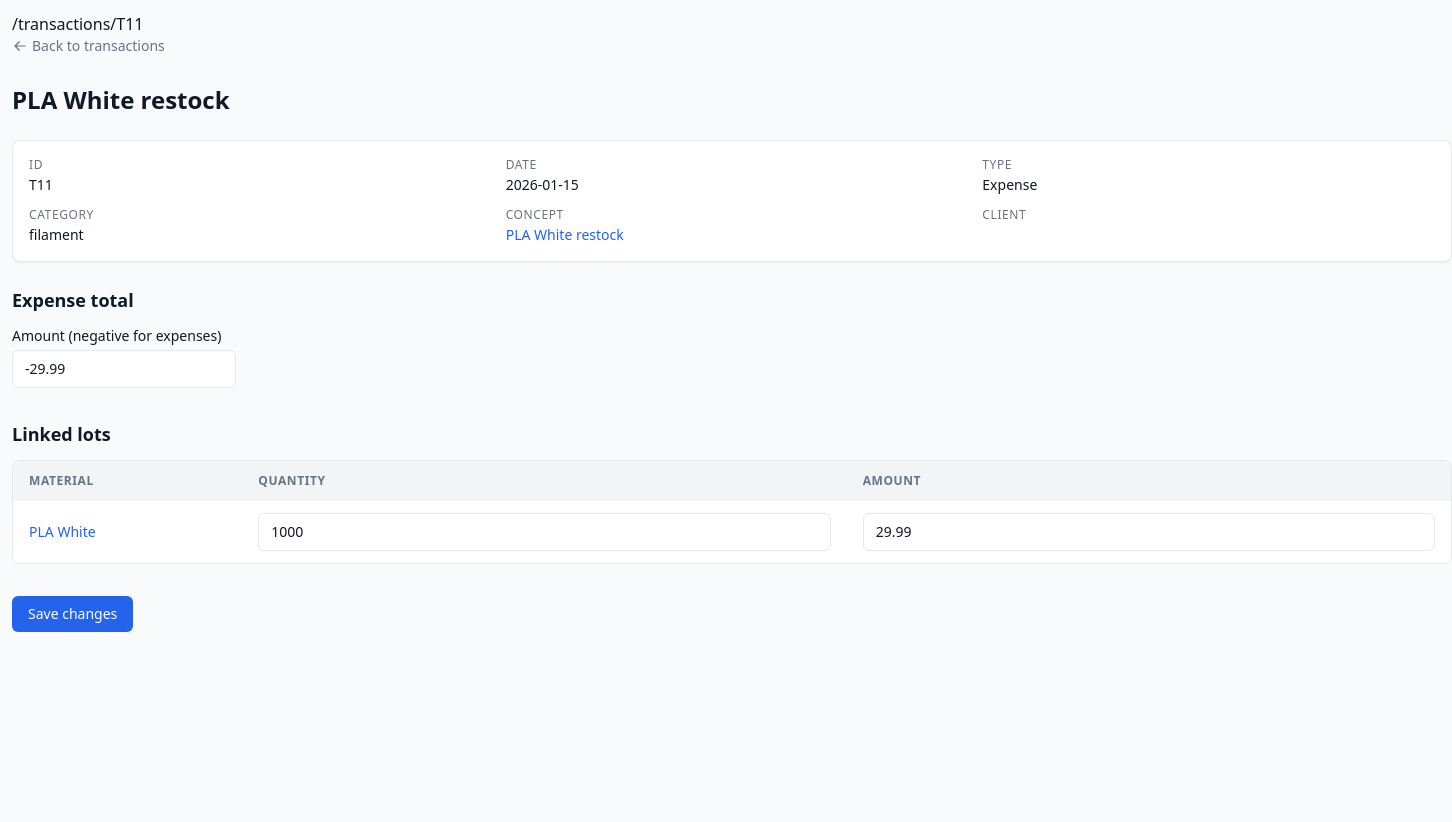
ExpenseTransactionDetailPage › saving › leaves the expense total unchanged when a lot is rejected in the same save
Replace the text in the number field with test id "expense-detail-amount-input" with "-40": (124, 369) [12, 350, 236, 388]
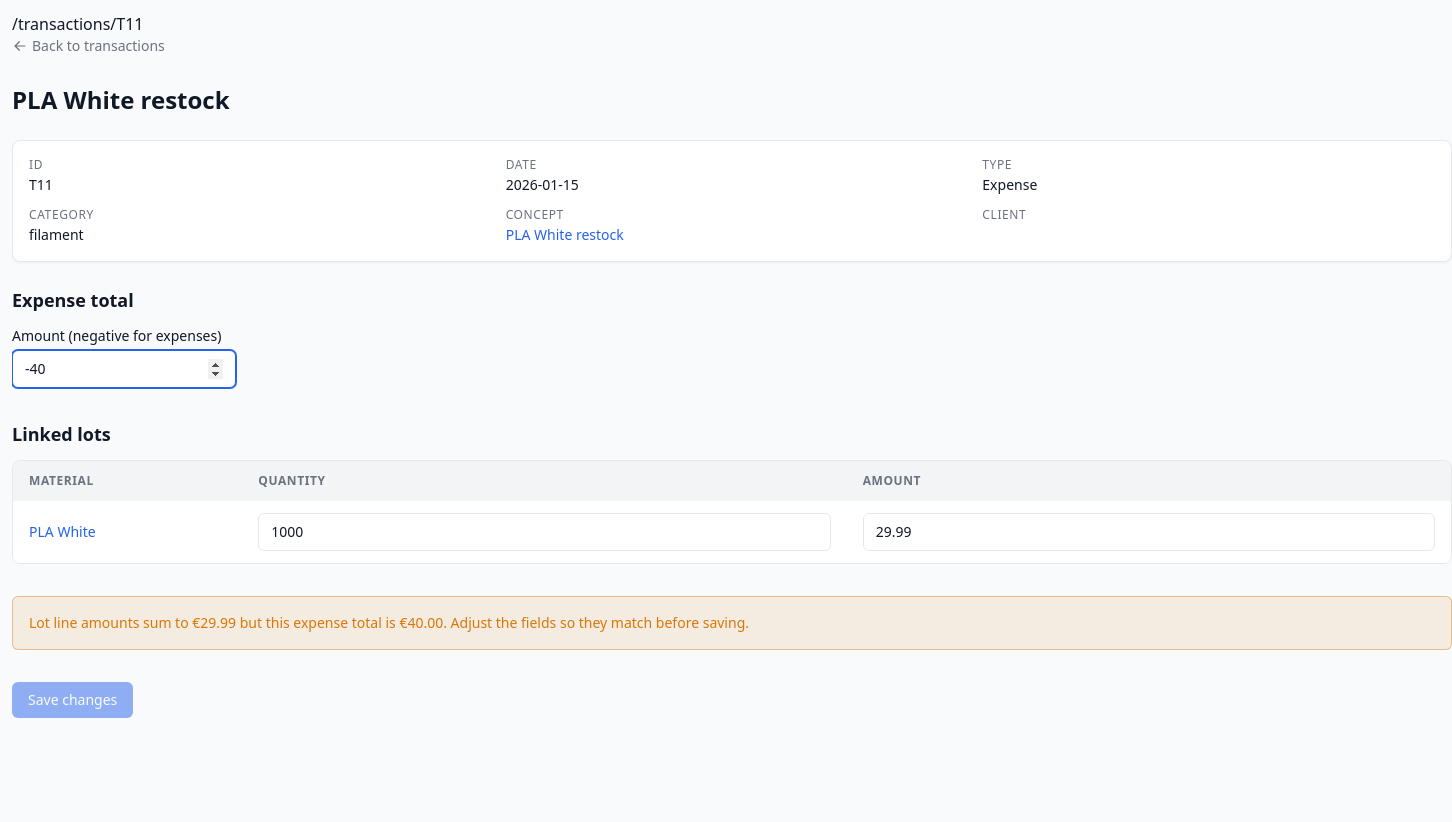
Clear the number field with test id "expense-detail-lot-amount-input-L1": (1149, 532) [863, 513, 1435, 551]
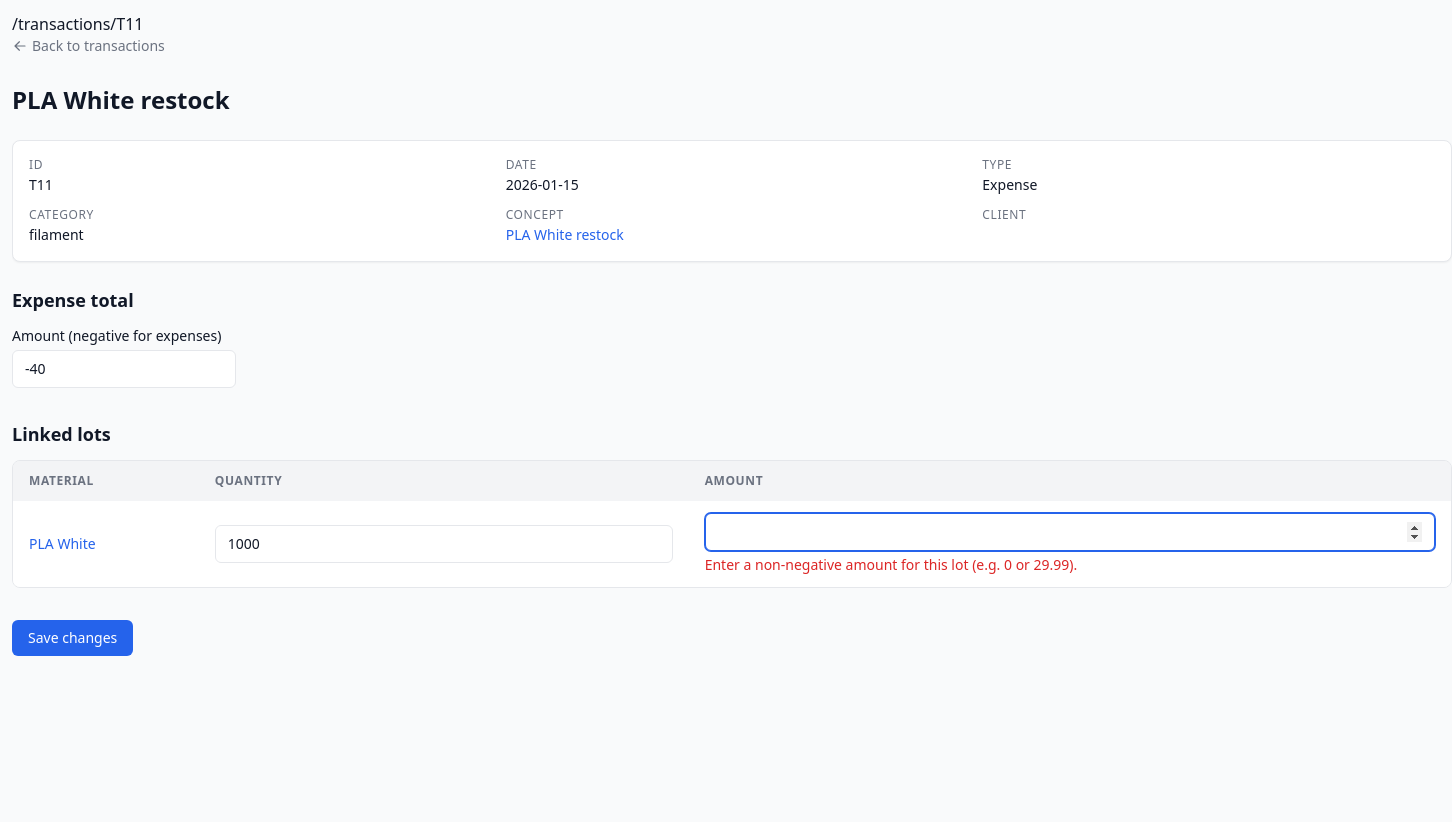
In the number field with test id "expense-detail-lot-amount-input-L1": (1070, 532) [705, 513, 1435, 551], type "40"
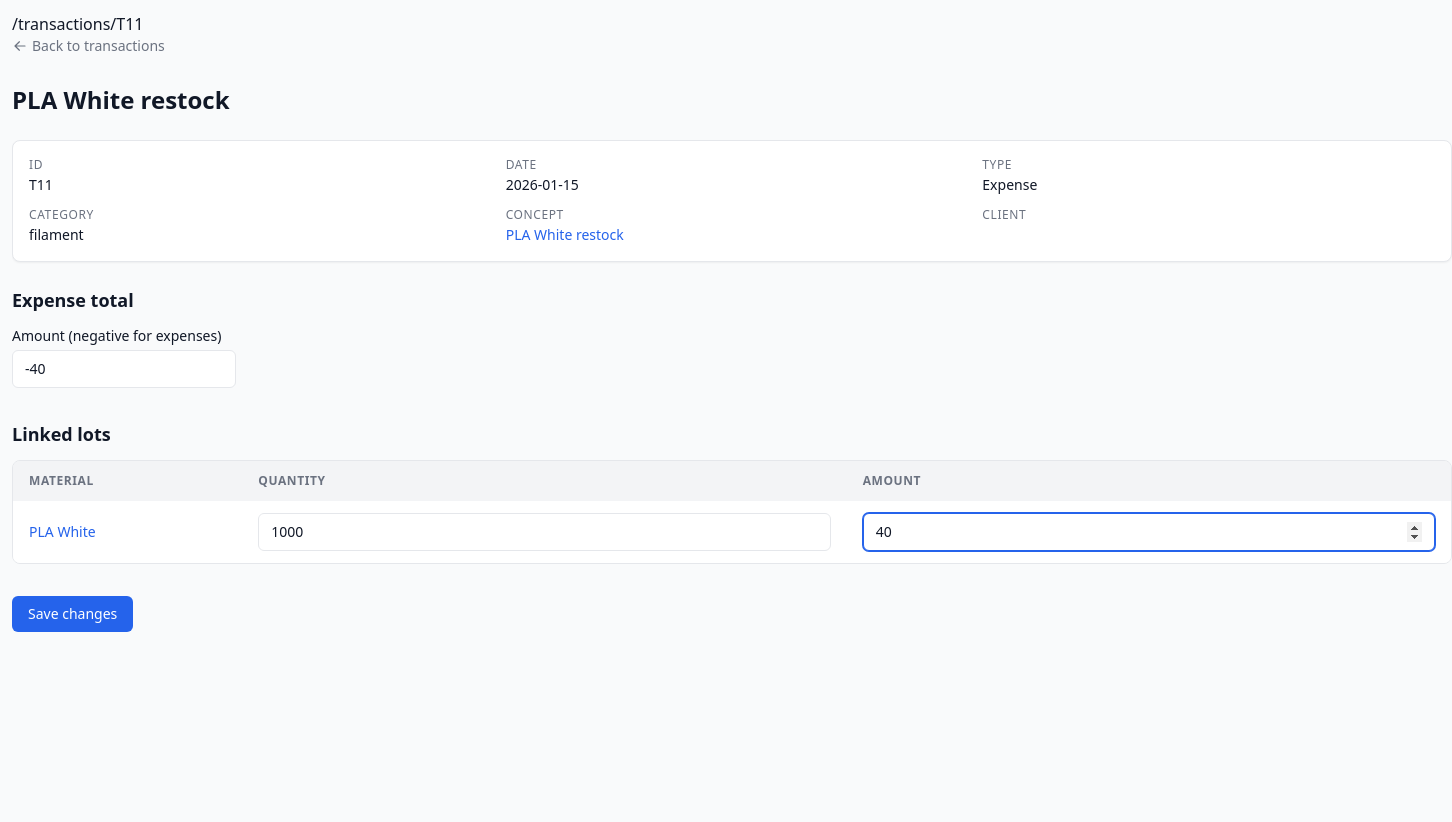
Clear the number field with test id "expense-detail-lot-quantity-input-L1": (544, 532) [258, 513, 831, 551]
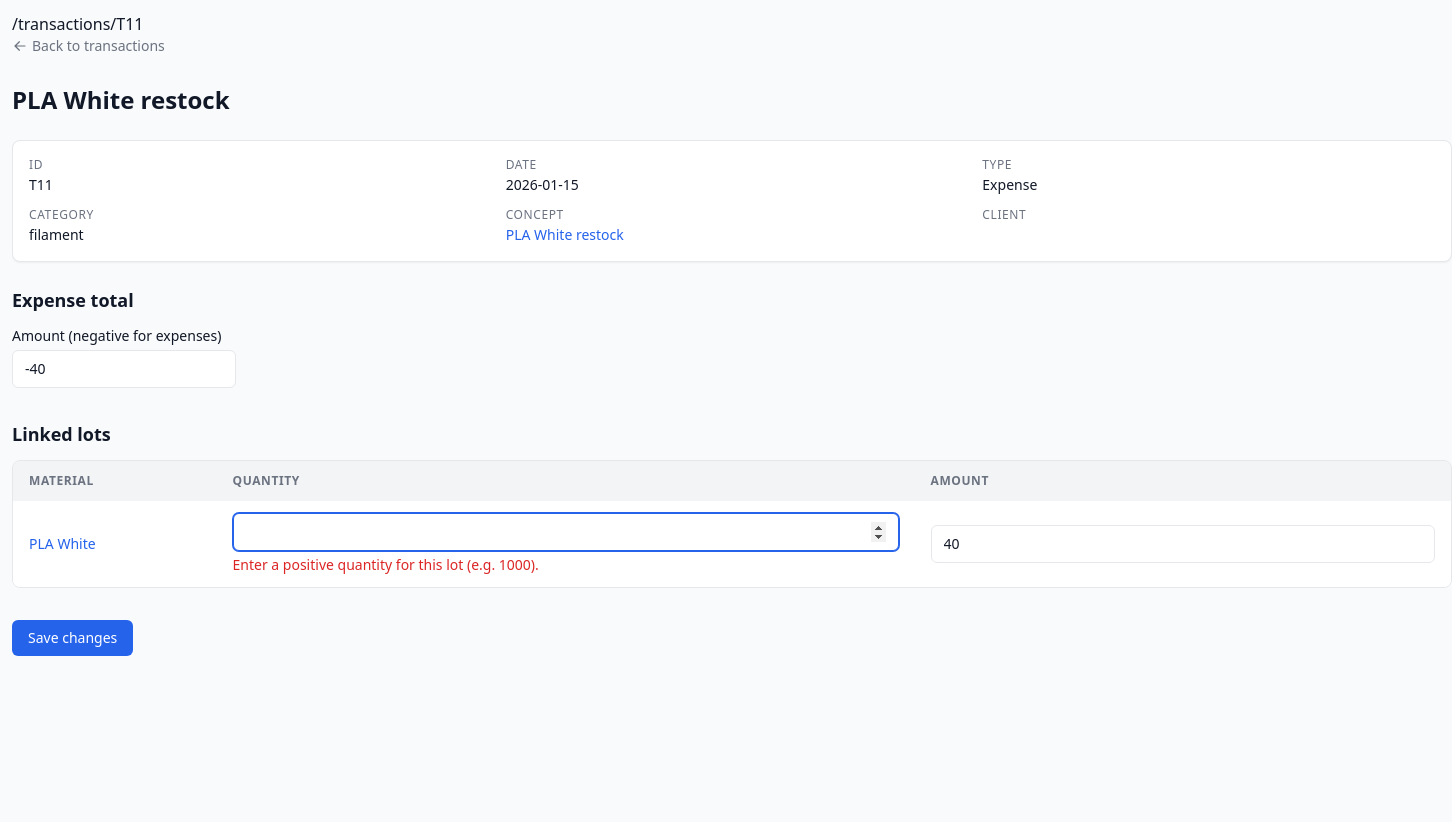
In the number field with test id "expense-detail-lot-quantity-input-L1": (566, 532) [232, 513, 898, 551], type "0"
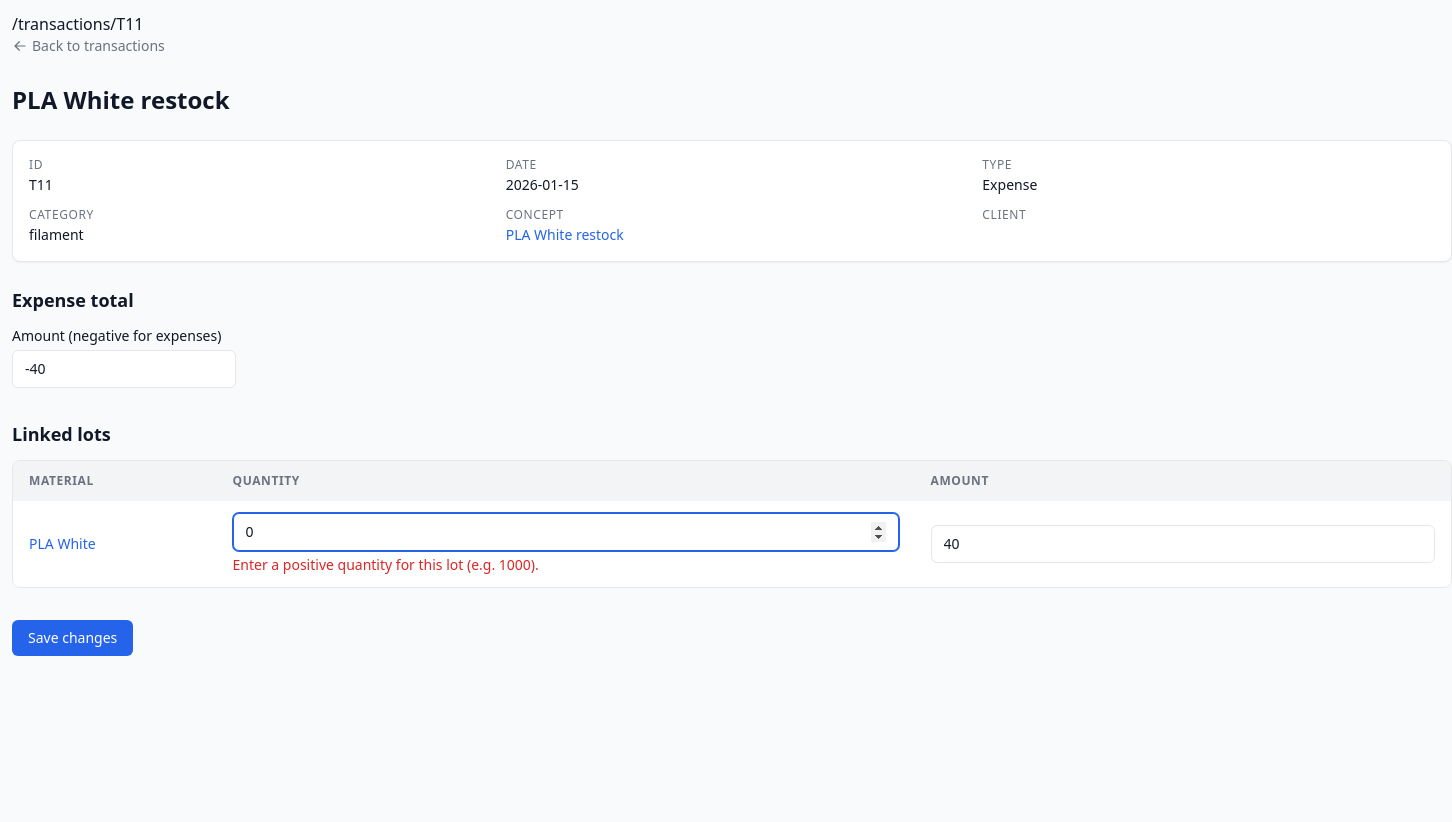
Click the button with test id "expense-detail-save-changes": (73, 638) [12, 620, 133, 656]
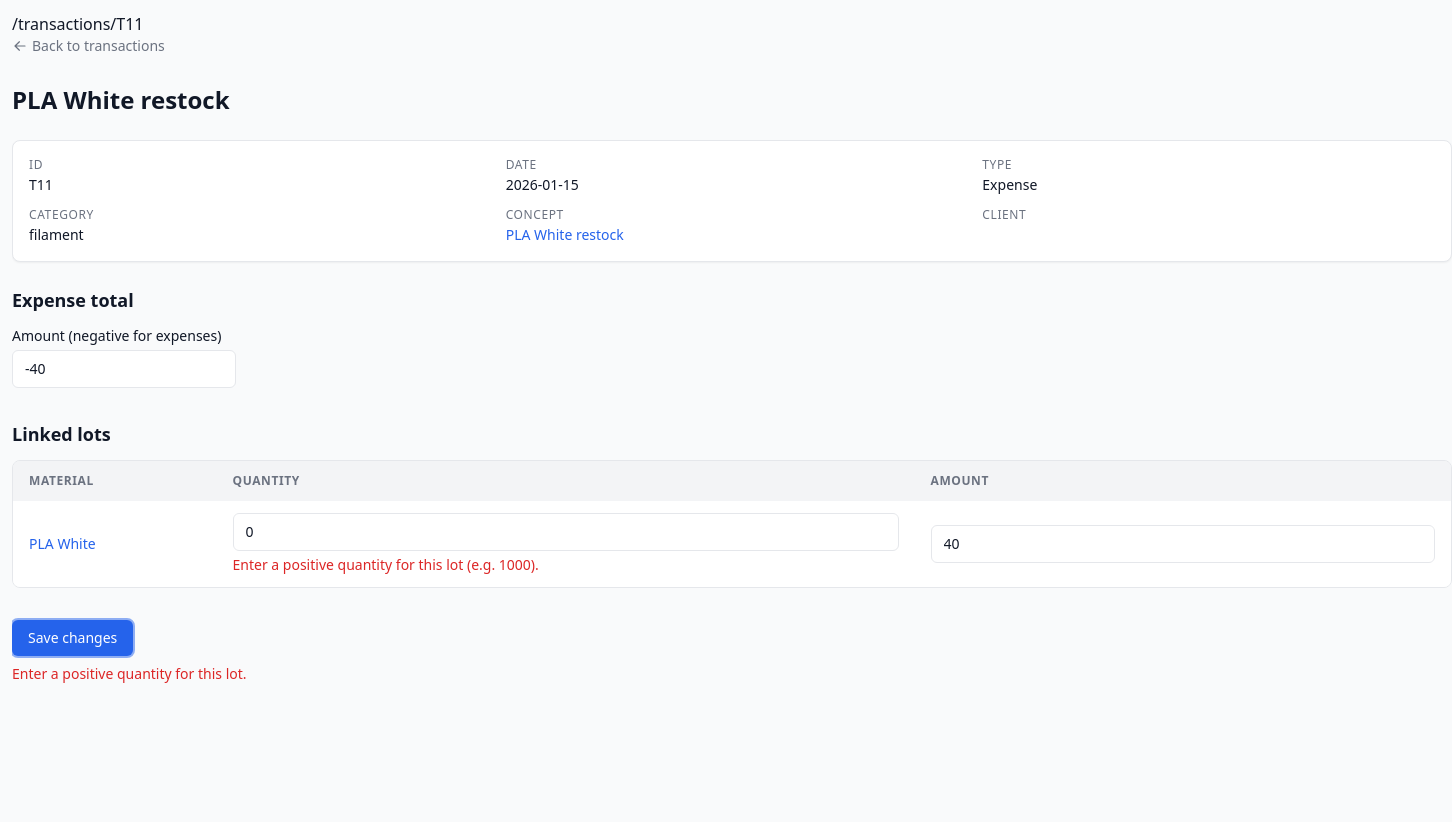
Expected: the message "Enter a positive quantity for this lot." is shown, [12, 664, 246, 683]
